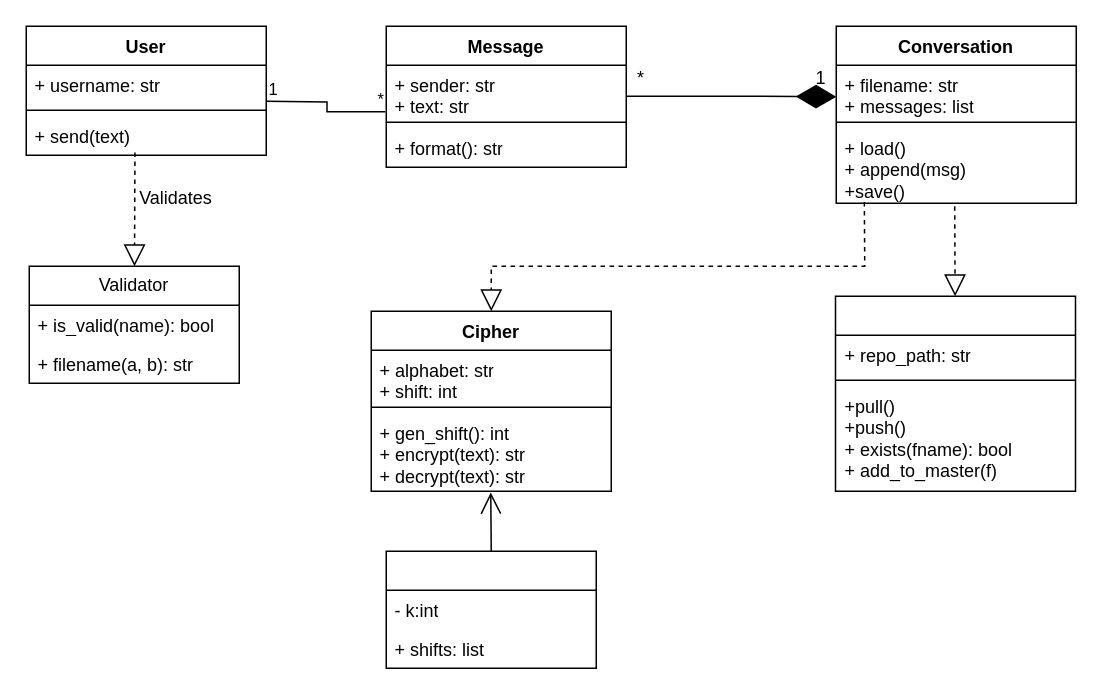
Image size: 1103x699. Some labels were removed from this diagram. The shapes that lost their labels are listed below. From the top down, each one's box as (x1, y1, x2, y2) in pixels, then its label:
(834, 295, 1076, 491): RepoManager
(385, 550, 596, 668): KRotatingCipher
